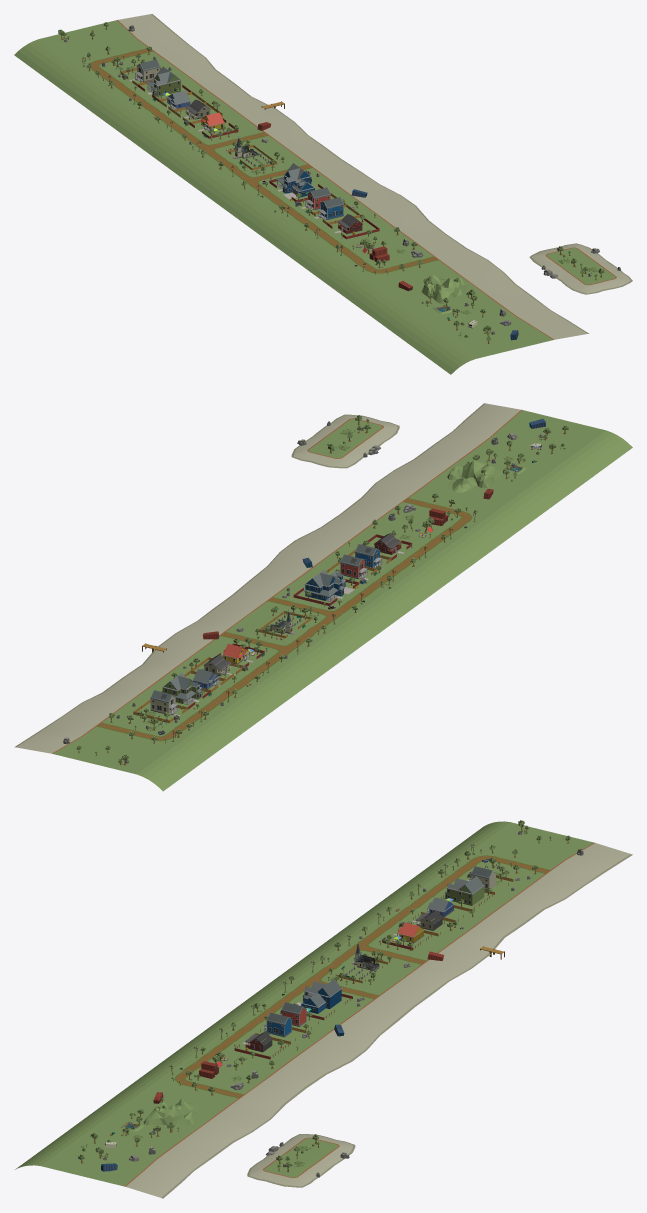
The model's file is _lvl_beach_bg_2.glb.
3 views of the same model, one above another, from view 1: azimuth 30°, elevation 25°; view 2: azimuth 150°, elevation 25°; view 3: azimuth 330°, elevation 25° (orthographic). The views are drawn at different scales.
Parts seen in each view (by area): view 1: bg_ground_2, bg_near_plane_beach (1), SF_Env_Road_Full_1, SA_Env_Island_2, SM_Env_Hills_Pack_2, Building_House_05, SA_Prop_Fence_Pack_1, Building_House_07; view 2: bg_ground_2, bg_near_plane_beach (1), SF_Env_Road_Full_1, SA_Env_Island_2, SM_Env_Hills_Pack_2, Building_House_07, Building_House_05, SA_Prop_Fence_Pack_1, SA_Prop_Fence_Pack_3, Building_House_03, Building_House_04; view 3: bg_ground_2, bg_near_plane_beach (1), SF_Env_Road_Full_1, SA_Env_Island_2, SM_Env_Hills_Pack_2, Building_House_05, Building_House_07, Building_House_01.
Boxes of the visible parts, left/top/right/bottom form: bg_ground_2: left=39, top=14, right=589, bottom=358; bg_near_plane_beach (1): left=14, top=39, right=474, bottom=374; SF_Env_Road_Full_1: left=90, top=48, right=438, bottom=273; SA_Env_Island_2: left=529, top=243, right=632, bottom=294; SM_Env_Hills_Pack_2: left=421, top=275, right=466, bottom=304; Building_House_05: left=145, top=66, right=181, bottom=96; SA_Prop_Fence_Pack_1: left=120, top=67, right=238, bottom=138; Building_House_07: left=276, top=163, right=311, bottom=193; bg_ground_2: left=14, top=403, right=605, bottom=774; bg_near_plane_beach (1): left=137, top=430, right=632, bottom=791; SF_Env_Road_Full_1: left=96, top=498, right=472, bottom=741; SA_Env_Island_2: left=291, top=414, right=399, bottom=468; SM_Env_Hills_Pack_2: left=447, top=460, right=503, bottom=492; Building_House_07: left=304, top=569, right=344, bottom=601; Building_House_05: left=162, top=673, right=201, bottom=704; SA_Prop_Fence_Pack_1: left=133, top=643, right=264, bottom=723; SA_Prop_Fence_Pack_3: left=293, top=534, right=412, bottom=605; Building_House_03: left=340, top=554, right=367, bottom=579; Building_House_04: left=150, top=690, right=177, bottom=714; bg_ground_2: left=41, top=822, right=632, bottom=1198; bg_near_plane_beach (1): left=15, top=821, right=509, bottom=1169; SF_Env_Road_Full_1: left=174, top=855, right=550, bottom=1098; SA_Env_Island_2: left=247, top=1134, right=355, bottom=1187; SM_Env_Hills_Pack_2: left=143, top=1098, right=199, bottom=1125; Building_House_05: left=445, top=876, right=484, bottom=905; Building_House_07: left=302, top=979, right=342, bottom=1008; Building_House_01: left=264, top=1012, right=292, bottom=1037.
Bounding box in the file's own units: 137 × 17.95 × 450.
Materials: 1 (1 with a texture image).
